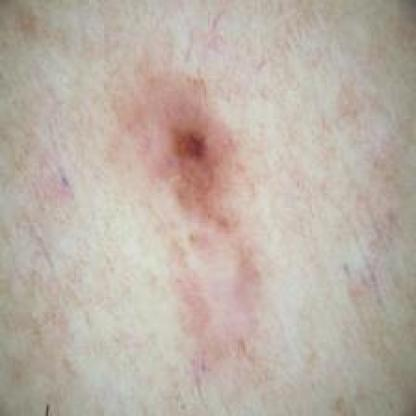Skin_Cancer-Malignant: (156, 100, 237, 210)
